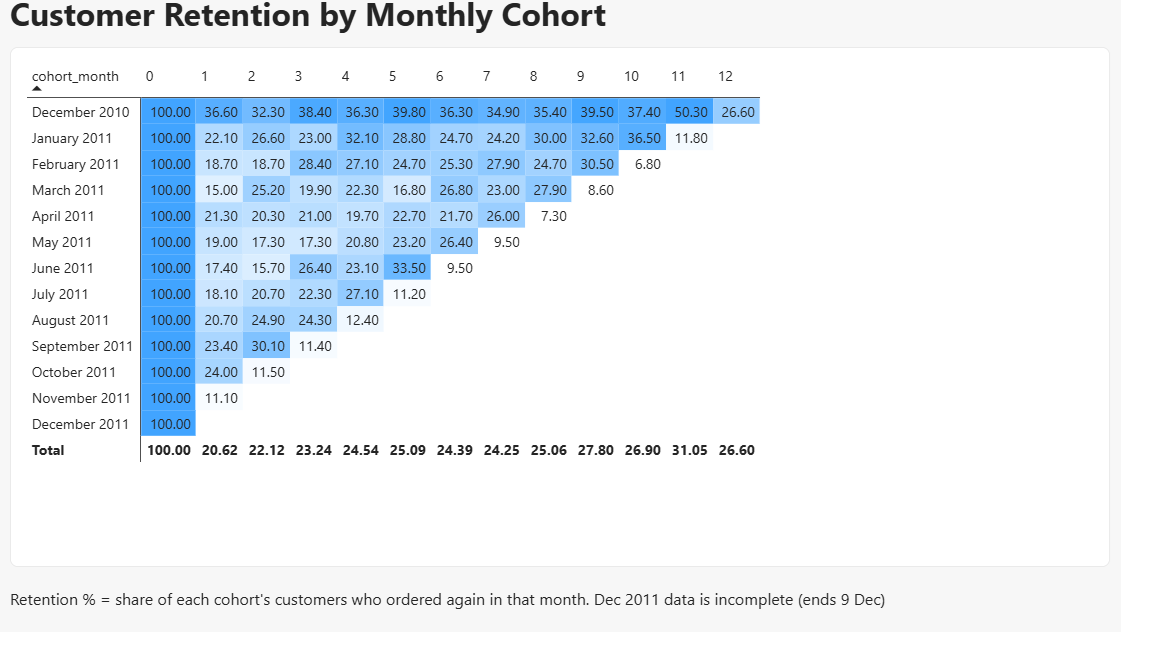

The page's visual inventory and layout, read from the dashboard file:
{"tool":"powerbi","page":{"name":"Retention","canvas":[1920,1080],"ordinal":1},"visuals":[{"type":"pivotTable","fields":{"Columns":["cohort_retention.month_number"],"Rows":["cohort_retention.cohort_month"],"Values":["Avg(cohort_retention.retention_pct)"]},"box":[20,70,1100,520],"z":0},{"type":"textbox","box":[20,15,700,45],"z":1},{"type":"textbox","box":[20,610,1100,40],"z":2}]}

Visuals, with their boxes in screenshot pixels (x1, y1, x2, y2), scaled from the page's 1920x1080 canvas onto the 1152x648 screenshot:
pivotTable - cohort_retention.month_number x cohort_retention.cohort_month: BBox(12, 42, 672, 354)
textbox: BBox(12, 9, 432, 36)
textbox: BBox(12, 366, 672, 390)
